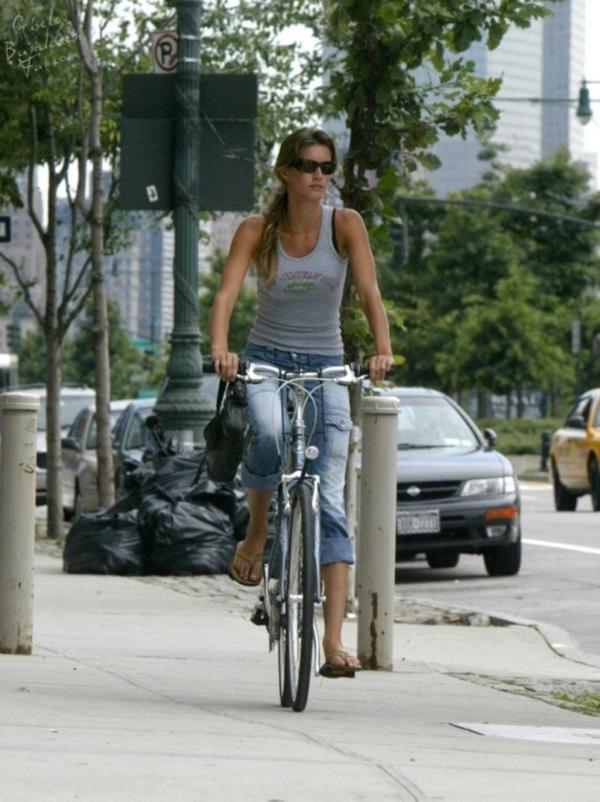person: (211, 128, 396, 677)
